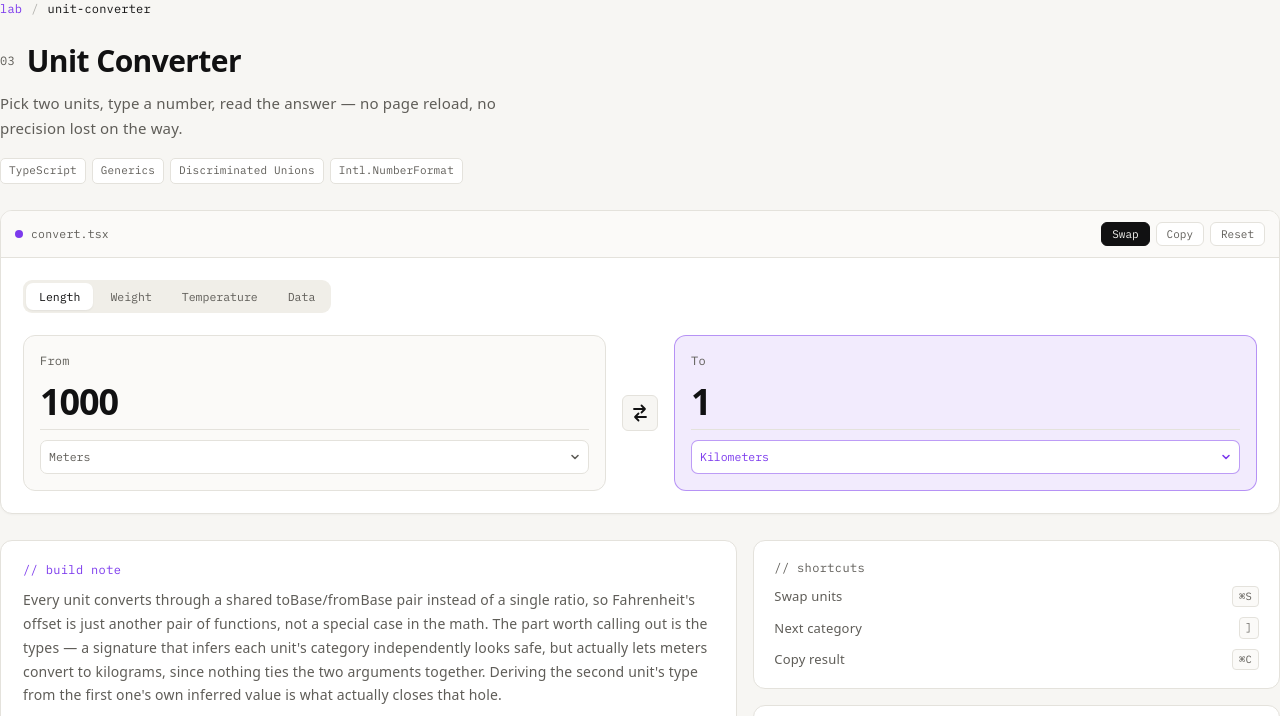
UnitConverterPage › shows an error and a dash result when the From field is cleared
Clear the field labelled "From": (314, 405) [40,380,589,430]
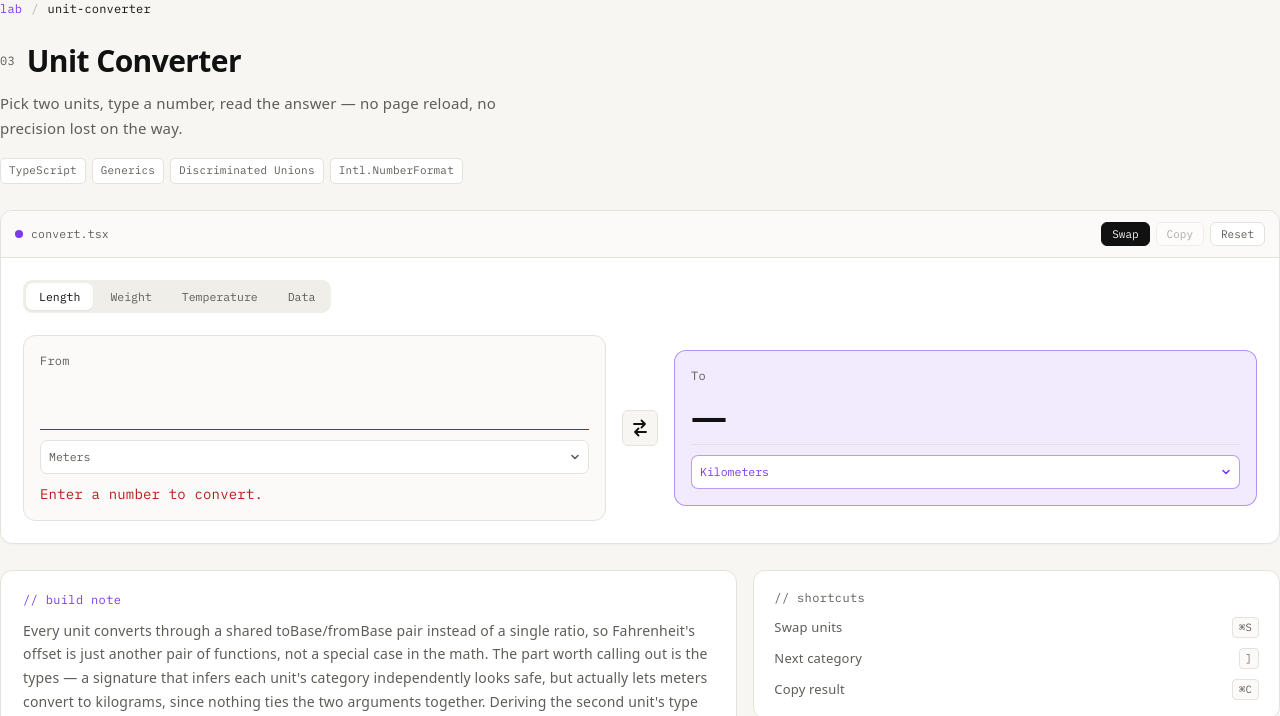
expect the text "Enter a number to convert." is shown: met, box [40,485,263,503]
expect the text "—" is shown: met, box [691,395,1240,445]
